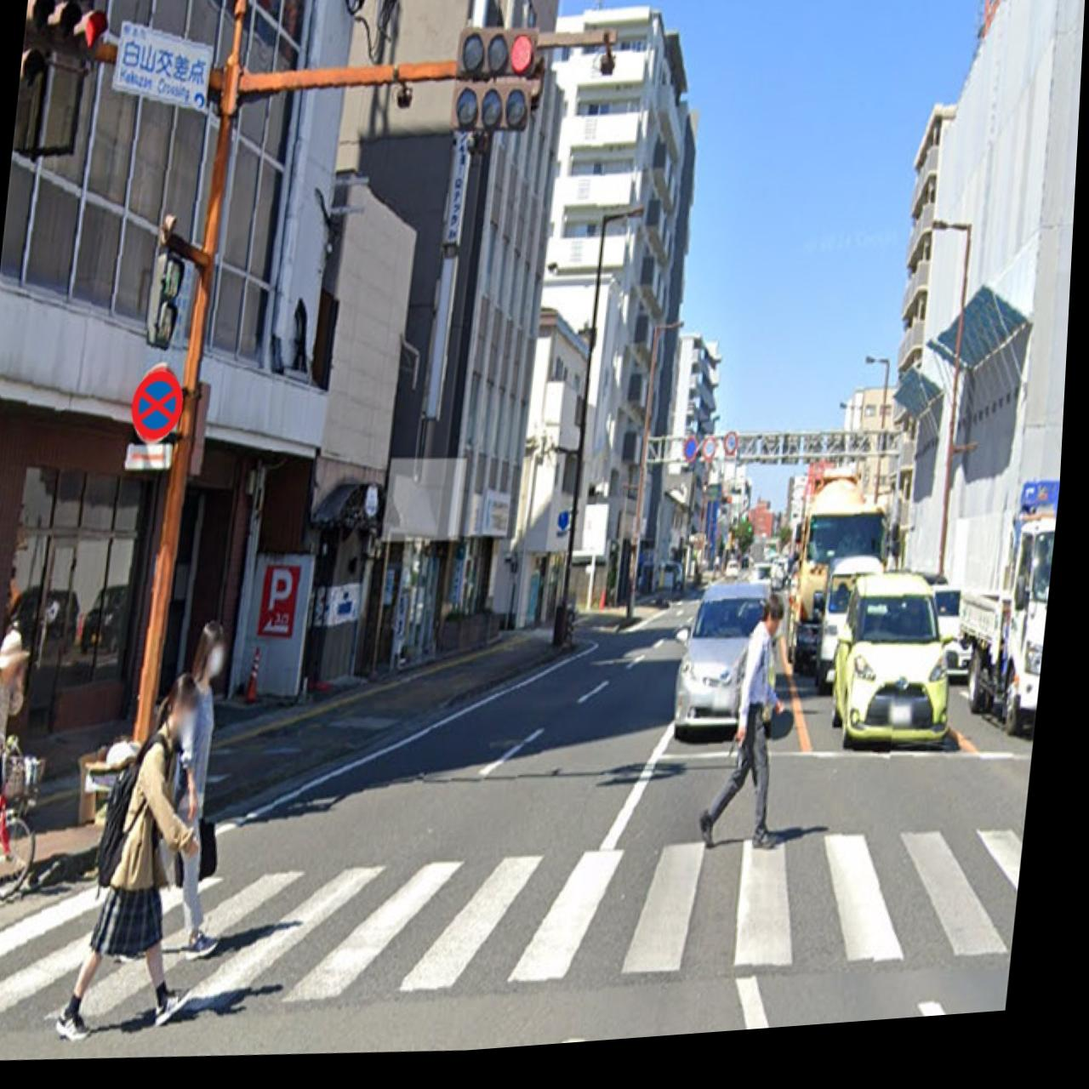stop_sign: (123, 360, 186, 446)
